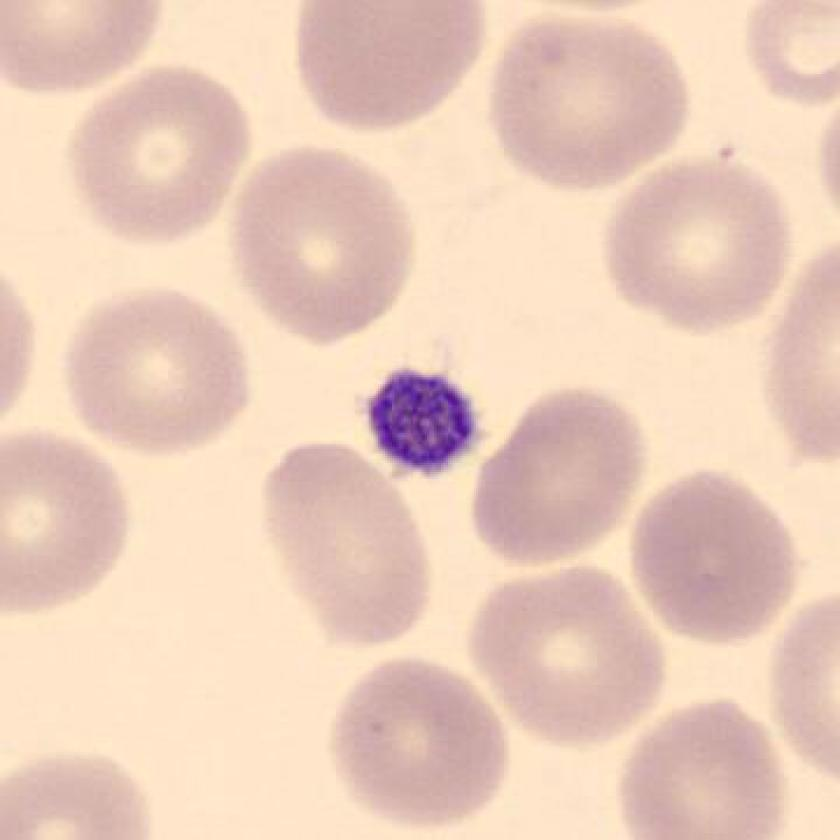platelets: (351, 355, 489, 492)
